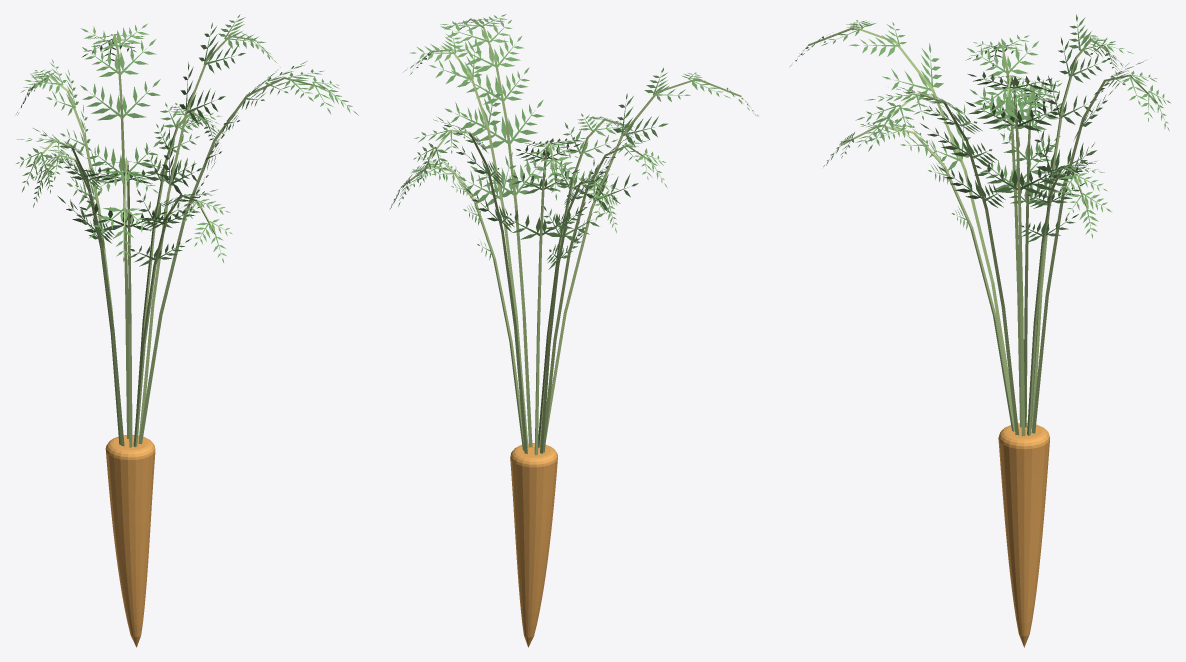
File: carrot_harvest_v18.glb
The picture shows the model from 3 angles, left to right: view 1: azimuth 30°, elevation 25°; view 2: azimuth 150°, elevation 25°; view 3: azimuth 270°, elevation 25°; orthographic projection. The views are drawn at different scales.
Parts seen in each view (by area): view 1: leaves, petioles, root; view 2: leaves, petioles, root; view 3: leaves, petioles, root.
Boxes of the visible parts, <box> form: leaves: <box>16,14,358,266</box>; petioles: <box>28,34,325,447</box>; root: <box>105,435,155,647</box>; leaves: <box>390,14,758,269</box>; petioles: <box>401,18,741,455</box>; root: <box>510,443,557,647</box>; leaves: <box>790,14,1170,242</box>; petioles: <box>808,26,1157,436</box>; root: <box>998,423,1049,647</box>.
Bounding box in the file's own units: 0.2359 × 0.4625 × 0.2586.
